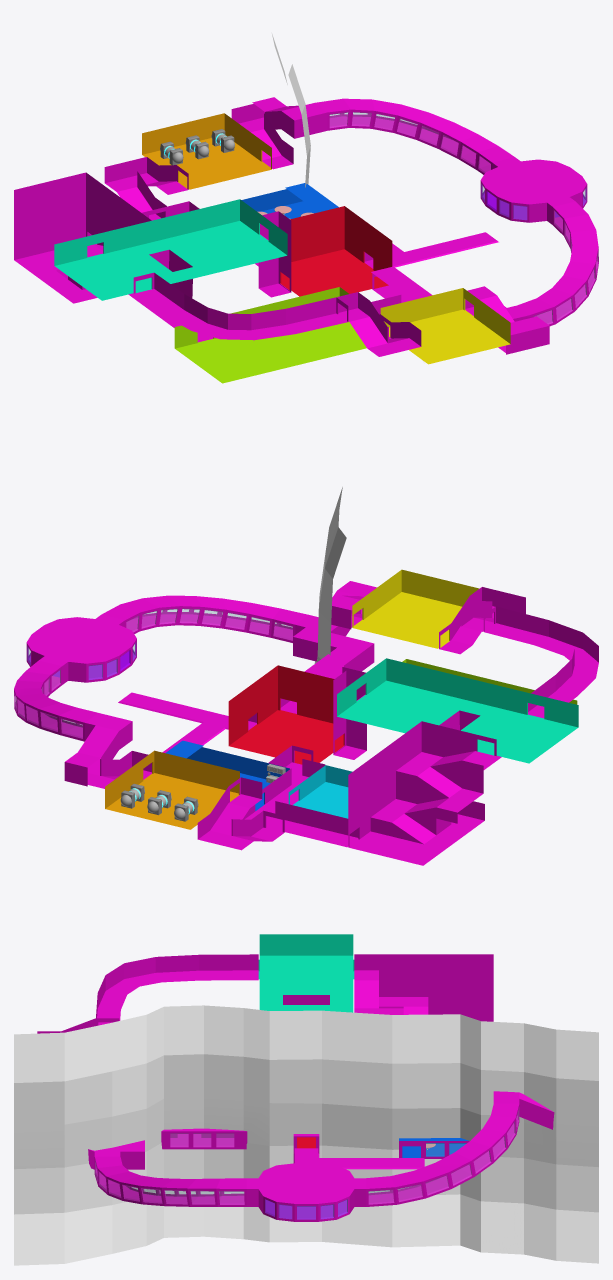
File: map.glb
The picture shows the model from 3 angles, top to bottom: view 1: azimuth 30°, elevation 25°; view 2: azimuth 150°, elevation 25°; view 3: azimuth 270°, elevation 25°; orthographic projection. The views are drawn at different scales.
Parts seen in each view (by area): view 1: Map_9, Map_1, Map_0, Map_4, Map_2, Map_3, Map_7, Map_5, Mountain_0, Map_8; view 2: Map_9, Map_1, Map_0, Map_2, Map_3, Map_7, Map_6, Mountain_0, Map_5, Map_8, Map_4; view 3: Mountain_0, Map_9, Map_1, Map_7, Map_8, Map_5.
Part boxes in pixels (x1=…): Map_9: x1=14, y1=97, x2=598, y2=356; Map_1: x1=54, y1=199, x2=287, y2=300; Map_0: x1=280, y1=206, x2=392, y2=296; Map_4: x1=174, y1=287, x2=366, y2=383; Map_2: x1=380, y1=288, x2=510, y2=364; Map_3: x1=142, y1=113, x2=271, y2=189; Map_7: x1=329, y1=112, x2=598, y2=324; Map_5: x1=241, y1=183, x2=338, y2=218; Mountain_0: x1=272, y1=34, x2=423, y2=361; Map_8: x1=481, y1=184, x2=586, y2=220; Map_9: x1=14, y1=581, x2=598, y2=865; Map_1: x1=337, y1=658, x2=578, y2=763; Map_0: x1=228, y1=665, x2=344, y2=764; Map_2: x1=352, y1=569, x2=479, y2=648; Map_3: x1=105, y1=750, x2=239, y2=829; Map_7: x1=14, y1=608, x2=292, y2=738; Map_6: x1=288, y1=765, x2=352, y2=818; Mountain_0: x1=314, y1=487, x2=346, y2=663; Map_5: x1=165, y1=740, x2=289, y2=810; Map_8: x1=27, y1=642, x2=136, y2=680; Map_4: x1=402, y1=659, x2=577, y2=704; Mountain_0: x1=14, y1=1005, x2=598, y2=1265; Map_9: x1=37, y1=954, x2=554, y2=1221; Map_1: x1=258, y1=934, x2=354, y2=1012; Map_7: x1=95, y1=1110, x2=518, y2=1219; Map_8: x1=265, y1=1199, x2=347, y2=1219; Map_5: x1=399, y1=1138, x2=468, y2=1157.
Size of the model in its own units: 96.6 by 40 by 100.
